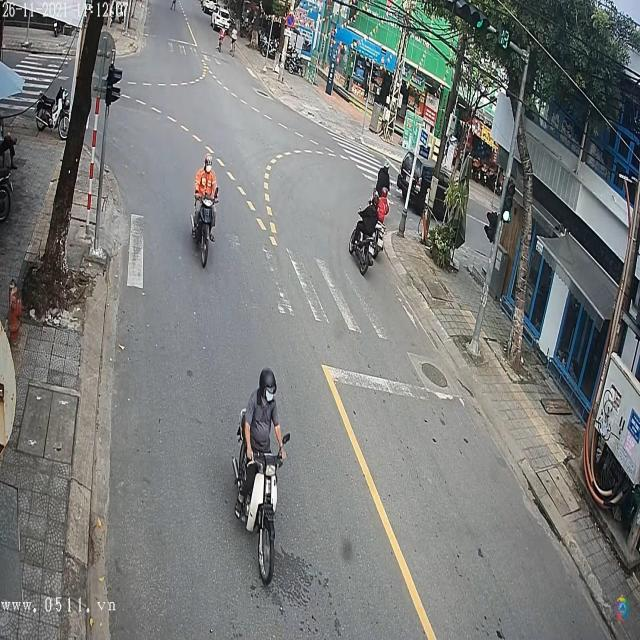motorcycle: (231, 402, 289, 585), (189, 178, 217, 272), (348, 200, 376, 280)
